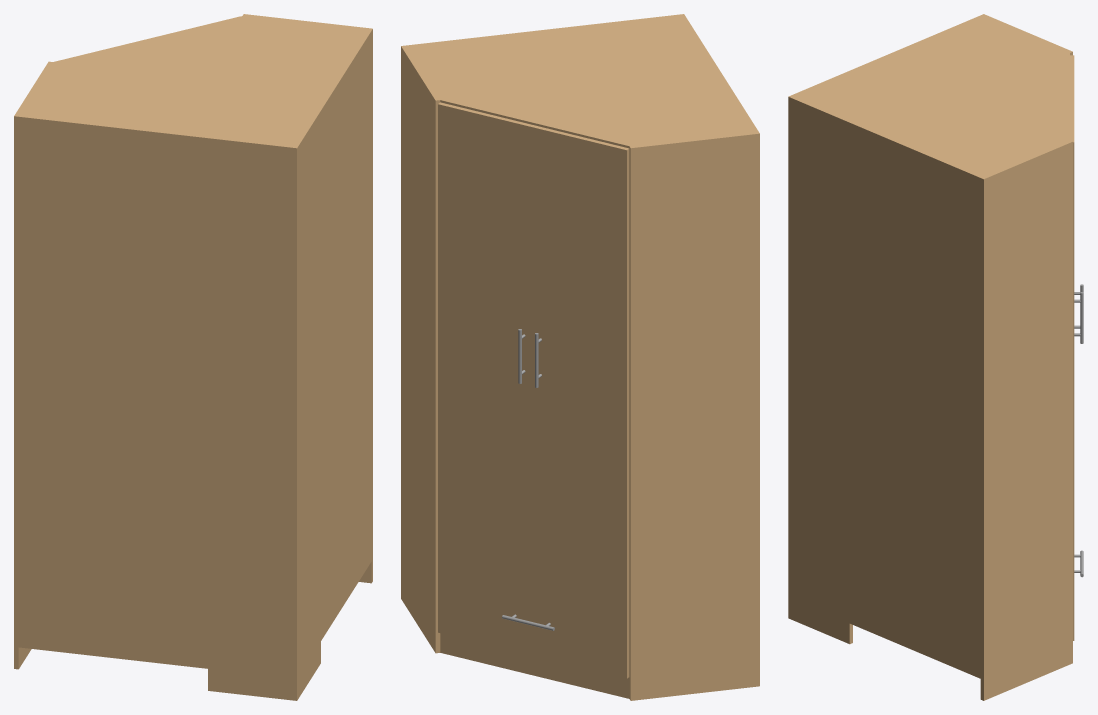
3 views of the same model, side by side, from view 1: azimuth 30°, elevation 25°; view 2: azimuth 150°, elevation 25°; view 3: azimuth 270°, elevation 25° (orthographic). The views are drawn at different scales.
Visible parts, largest first — view 1: mesh12_mesh12-geometry, mesh13_mesh13-geometry, mesh14_mesh14-geometry, mesh20_mesh20-geometry, mesh1_mesh1-geometry, mesh15_mesh15-geometry, mesh18_mesh18-geometry; view 2: mesh16_mesh16-geometry, mesh20_mesh20-geometry, mesh14_mesh14-geometry, mesh18_mesh18-geometry, mesh17_mesh17-geometry, mesh2_mesh2-geometry; view 3: mesh13_mesh13-geometry, mesh18_mesh18-geometry, mesh14_mesh14-geometry, mesh1_mesh1-geometry, mesh16_mesh16-geometry, mesh15_mesh15-geometry.
Boxes of the visible parts, left/top/right/bottom form: mesh12_mesh12-geometry: left=18, top=121, right=296, bottom=674; mesh13_mesh13-geometry: left=297, top=35, right=371, bottom=673; mesh14_mesh14-geometry: left=18, top=16, right=371, bottom=152; mesh20_mesh20-geometry: left=14, top=61, right=53, bottom=669; mesh1_mesh1-geometry: left=208, top=642, right=320, bottom=700; mesh15_mesh15-geometry: left=18, top=557, right=371, bottom=678; mesh18_mesh18-geometry: left=242, top=14, right=372, bottom=583; mesh16_mesh16-geometry: left=438, top=102, right=629, bottom=607; mesh20_mesh20-geometry: left=629, top=131, right=759, bottom=700; mesh14_mesh14-geometry: left=406, top=14, right=758, bottom=148; mesh18_mesh18-geometry: left=401, top=45, right=440, bottom=653; mesh17_mesh17-geometry: left=438, top=561, right=629, bottom=678; mesh2_mesh2-geometry: left=440, top=633, right=629, bottom=698; mesh13_mesh13-geometry: left=788, top=101, right=980, bottom=674; mesh18_mesh18-geometry: left=980, top=140, right=1072, bottom=700; mesh14_mesh14-geometry: left=788, top=15, right=1069, bottom=181; mesh1_mesh1-geometry: left=788, top=597, right=852, bottom=644; mesh16_mesh16-geometry: left=1070, top=55, right=1074, bottom=573; mesh15_mesh15-geometry: left=788, top=593, right=980, bottom=678.
Size of the model in its own units: 0.5174 by 0.7613 by 0.3909.
